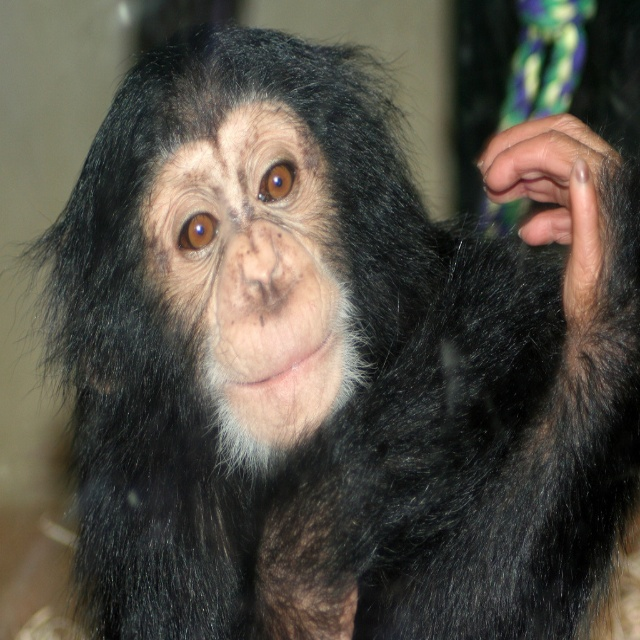Monkey: (14, 25, 628, 632)
